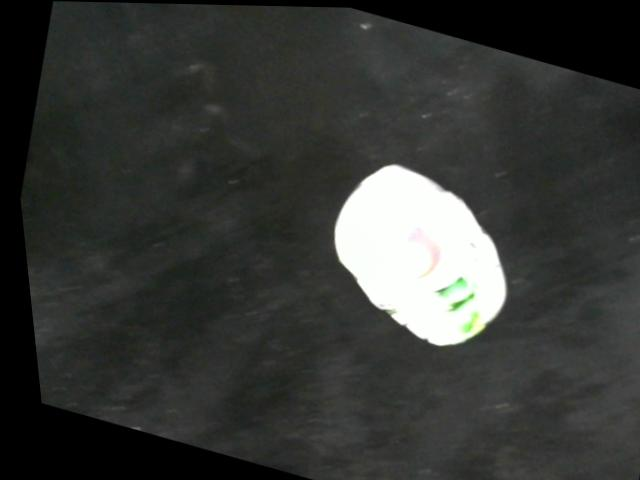can: (324, 160, 502, 348)
